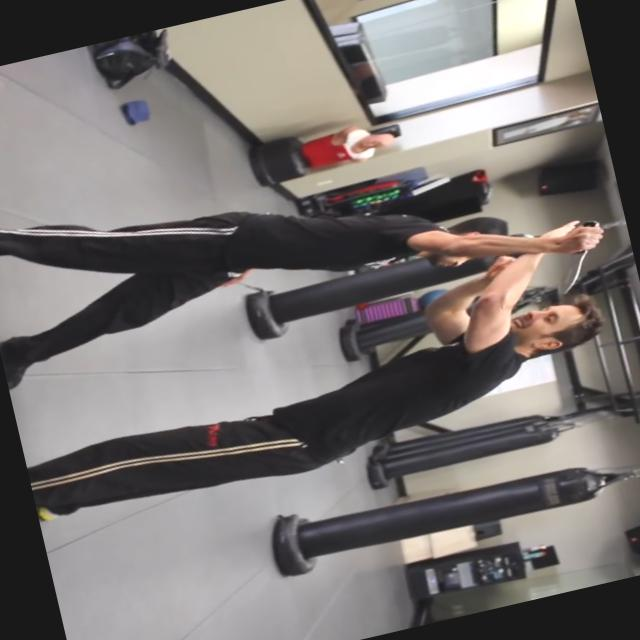knife: (538, 216, 618, 299)
